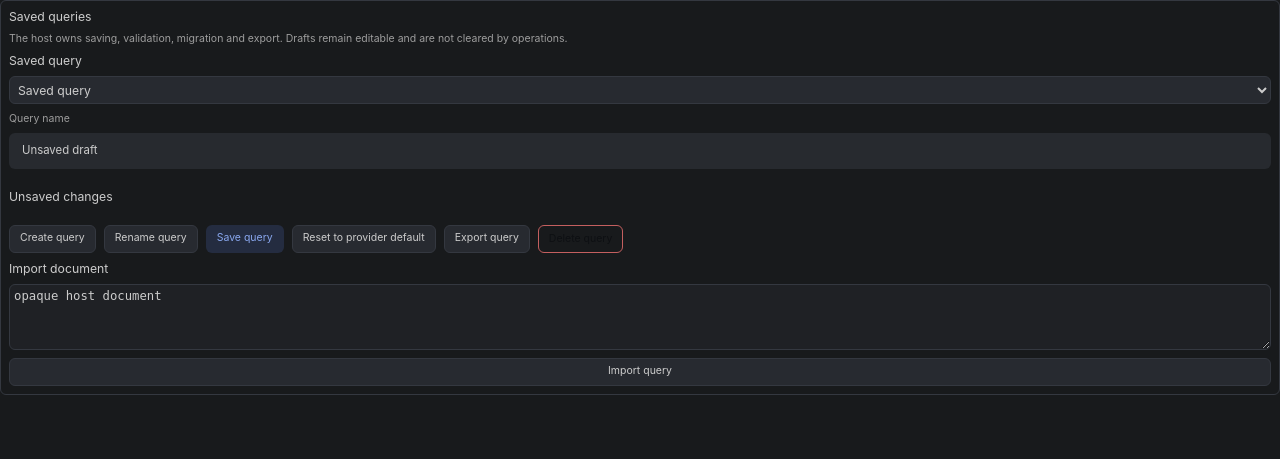
Test: resource workspace controls › cancels a pending save and ignores its late completion without losing newer edits
Click the button "Save query".
click(245, 238)  # box [206,224,284,252]
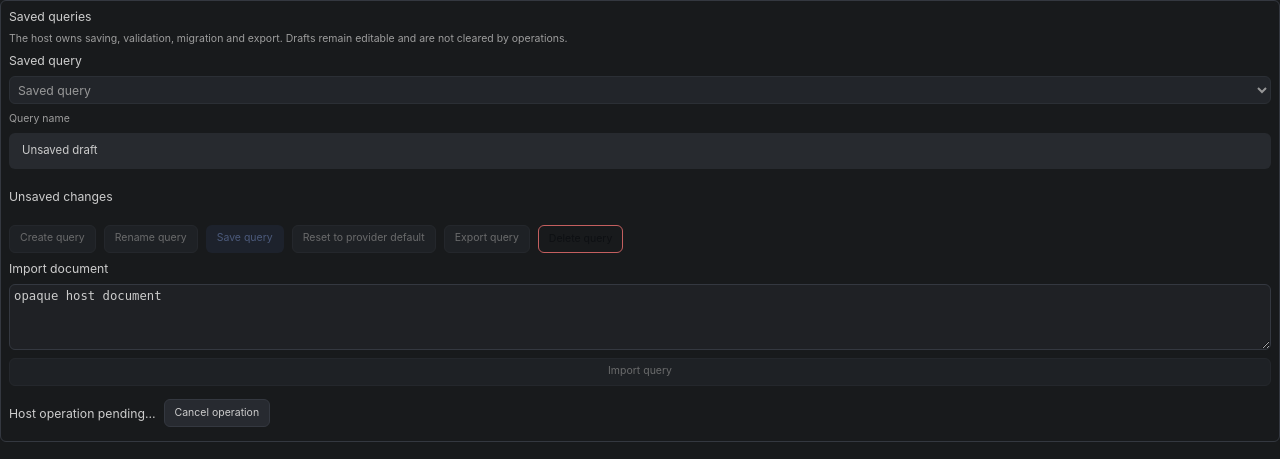
Type " updated" into the field labelled "Query name".
click(640, 151); type(" updated")  # box [22,143,1258,159]
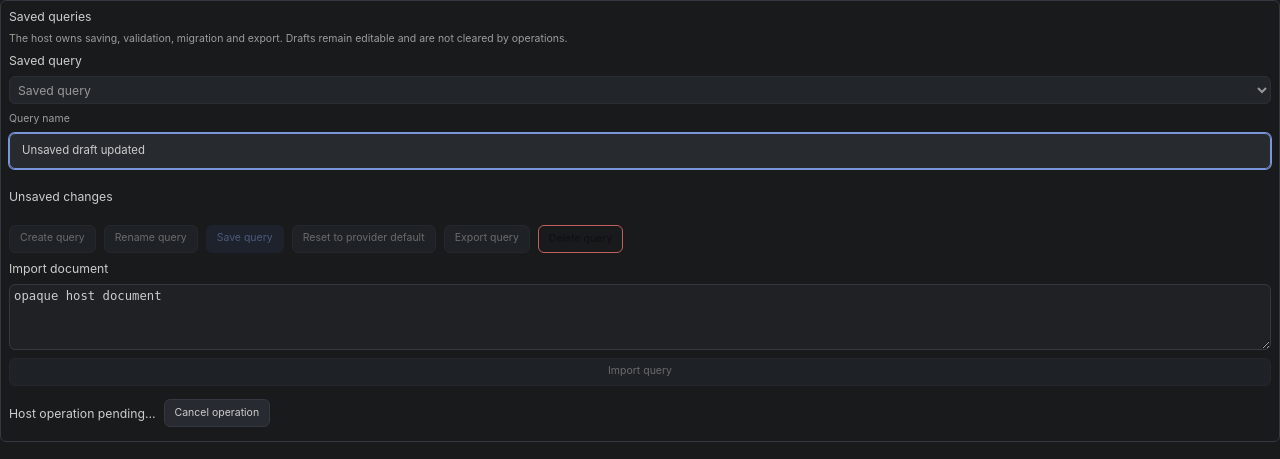
Click the button "Cancel operation".
click(217, 413)  # box [164,399,270,427]
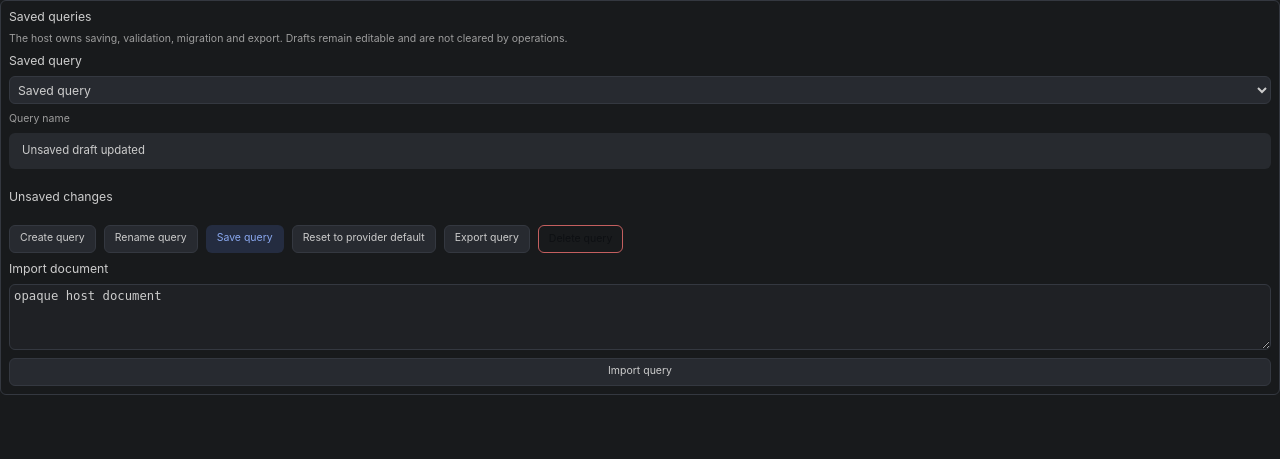
Check: the field labelled "Query name" holds "Unsaved draft updated", box [22,143,1258,159]
Check: the button "Save query" is enabled, box [206,224,284,252]
